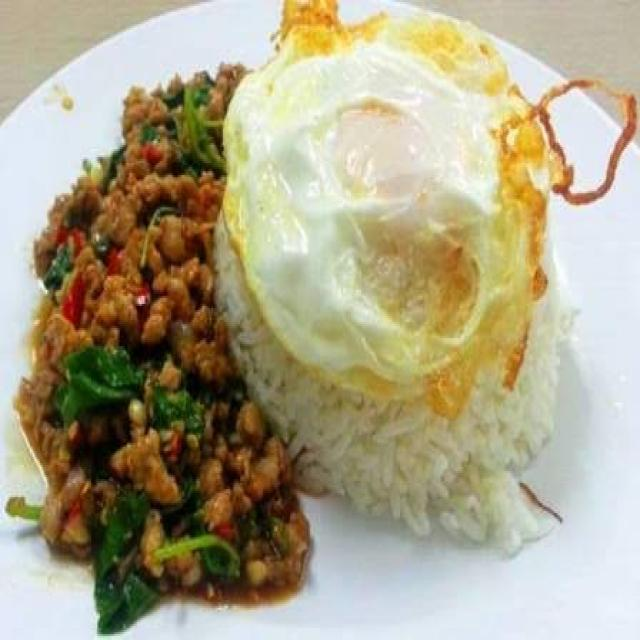basil chicken rice: (4, 34, 595, 608)
carb: (278, 349, 578, 539)
meat: (32, 115, 275, 601)
vegetable: (82, 516, 154, 617), (58, 348, 161, 416)
